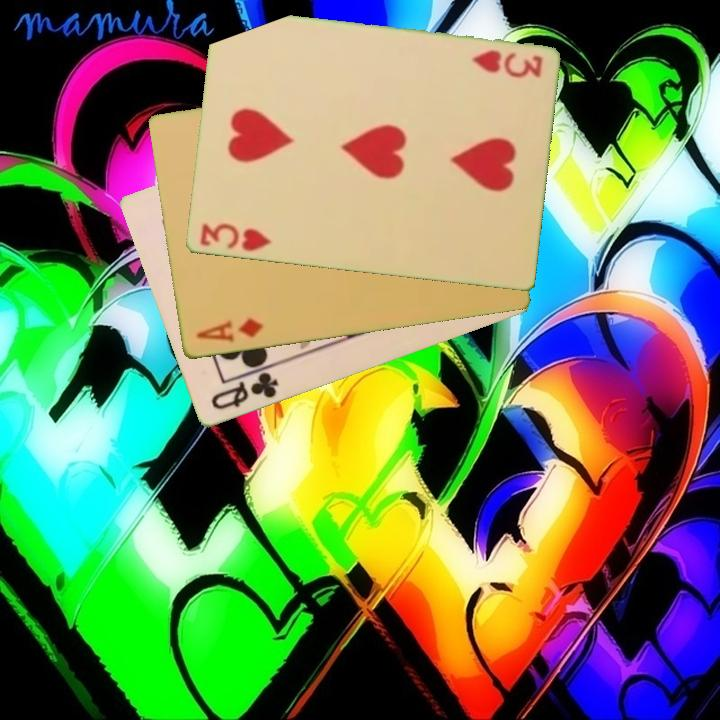3h: (196, 220, 274, 255), (468, 46, 545, 81)
Ad: (192, 315, 266, 346)
Qc: (207, 363, 281, 413)
